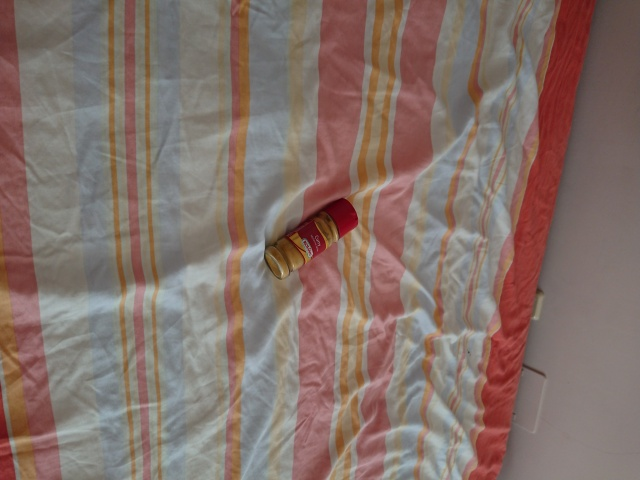Kotanyi Curry Spices Mix 70g: (262, 196, 360, 282)
